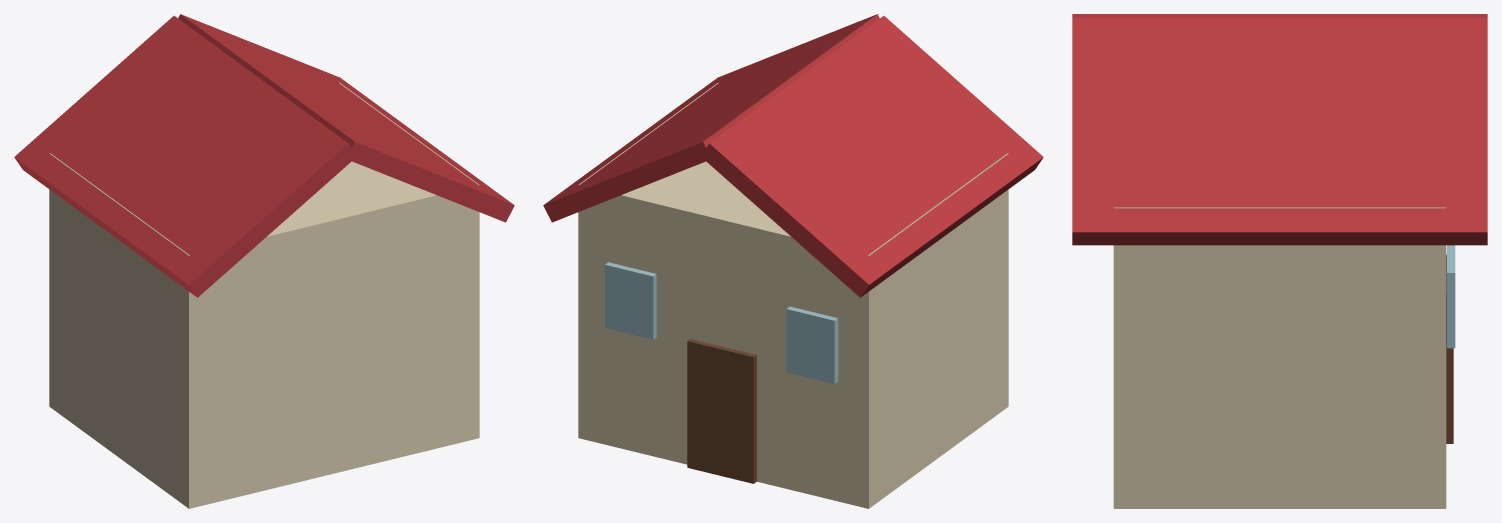
File: house.glb
3 renders of one model, left to right at view 1: azimuth 30°, elevation 25°; view 2: azimuth 150°, elevation 25°; view 3: azimuth 270°, elevation 25°, orthographic. The views are drawn at different scales.
Parts seen in each view (by area): view 1: walls, roof (×2); view 2: walls, roof (×2), door, window (×2); view 3: roof (×2), walls, window, door.
Boxes of the visible parts, box(x1,y1,x2,y2) form: walls: box(49, 82, 479, 508); roof (×2): box(14, 14, 514, 297); walls: box(578, 82, 1008, 508); roof (×2): box(543, 14, 1043, 297); door: box(687, 339, 756, 483); window (×2): box(605, 262, 838, 383); roof (×2): box(1072, 14, 1487, 245); walls: box(1113, 207, 1446, 508); window: box(1447, 245, 1455, 348); door: box(1446, 254, 1453, 443).
Bounding box in the file's own units: 2.69 × 2.71 × 2.5.
